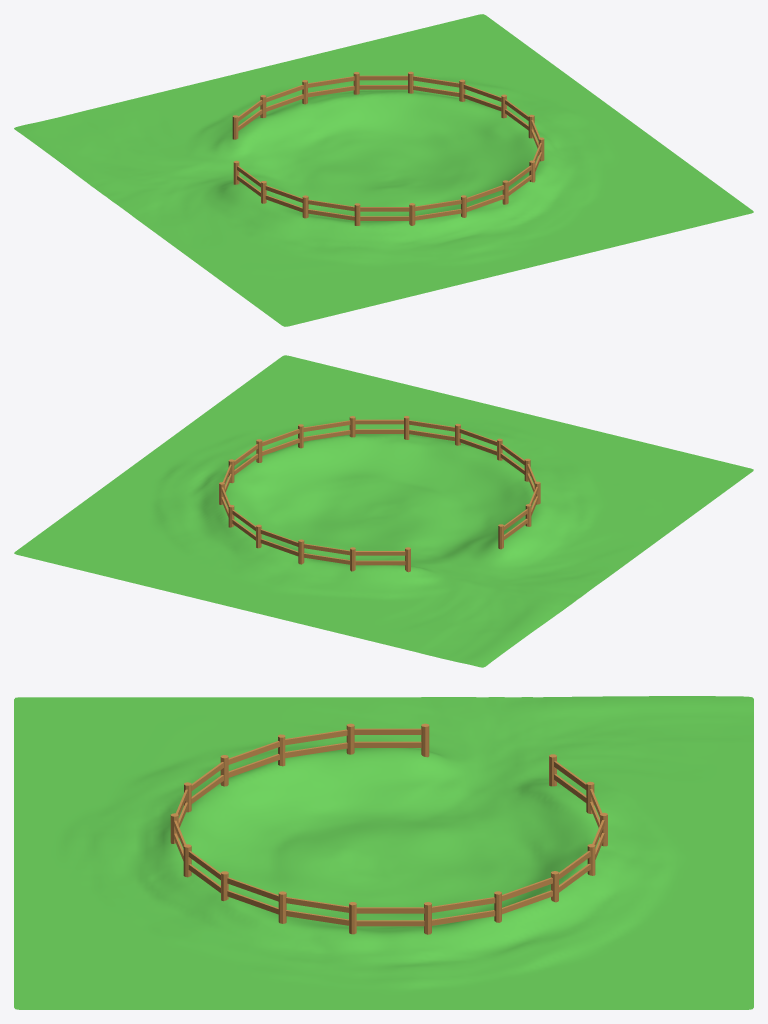
File: Arena.fbx
The picture shows the model from 3 angles, top to bottom: view 1: azimuth 30°, elevation 25°; view 2: azimuth 150°, elevation 25°; view 3: azimuth 270°, elevation 25°; orthographic projection. The views are drawn at different scales.
Visible parts, largest first — view 1: Arena_Boden, Arena_Zaun; view 2: Arena_Boden, Arena_Zaun; view 3: Arena_Boden, Arena_Zaun.
Boxes of the visible parts, box(x1,y1,x2,y2) form: Arena_Boden: box(14, 14, 753, 326); Arena_Zaun: box(232, 71, 544, 225); Arena_Boden: box(14, 355, 753, 667); Arena_Zaun: box(219, 416, 540, 572); Arena_Boden: box(14, 696, 753, 1009); Arena_Zaun: box(170, 723, 607, 934).
Bounding box in the file's own units: 57.03 × 4.72 × 57.03.
